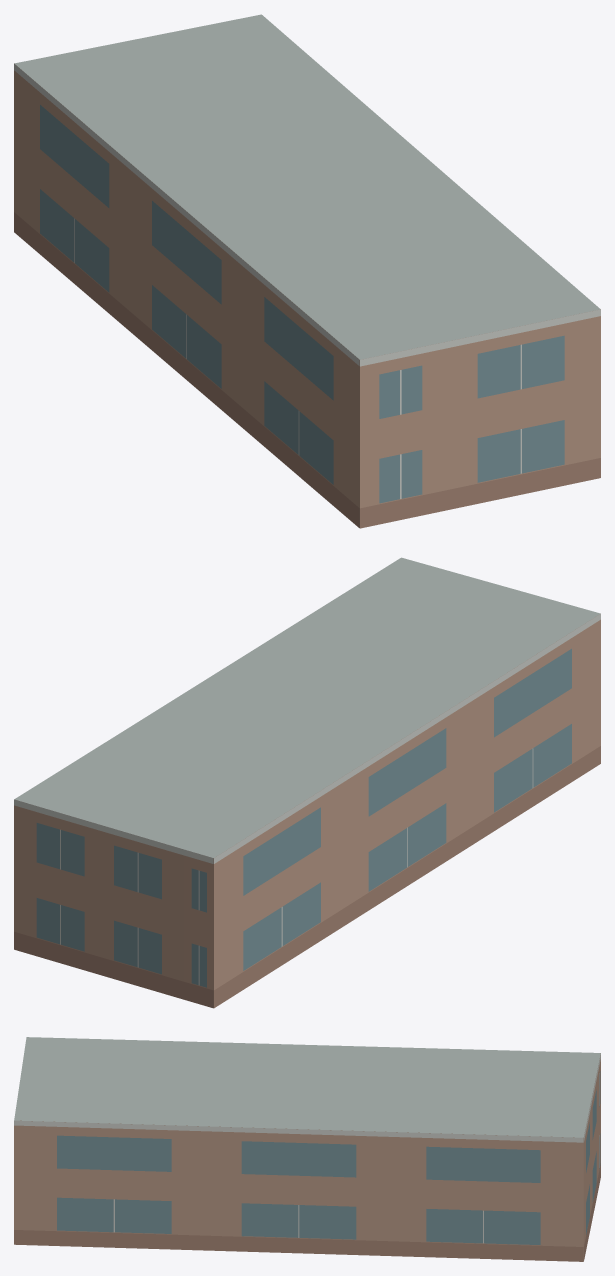
The model's file is survey-upis-32768827.glb.
The picture shows the model from 3 angles, top to bottom: view 1: azimuth 30°, elevation 25°; view 2: azimuth 150°, elevation 25°; view 3: azimuth 270°, elevation 25°; orthographic projection. The views are drawn at different scales.
Visible parts, largest first — view 1: survey-upis-32768827.tmp; view 2: survey-upis-32768827.tmp; view 3: survey-upis-32768827.tmp.
Boxes of the visible parts, bbox=[...] form: survey-upis-32768827.tmp: bbox=[14, 14, 600, 528]; survey-upis-32768827.tmp: bbox=[14, 557, 600, 1008]; survey-upis-32768827.tmp: bbox=[14, 1037, 600, 1261].
Bounding box in the file's own units: 10.62 × 6.1 × 26.14.
